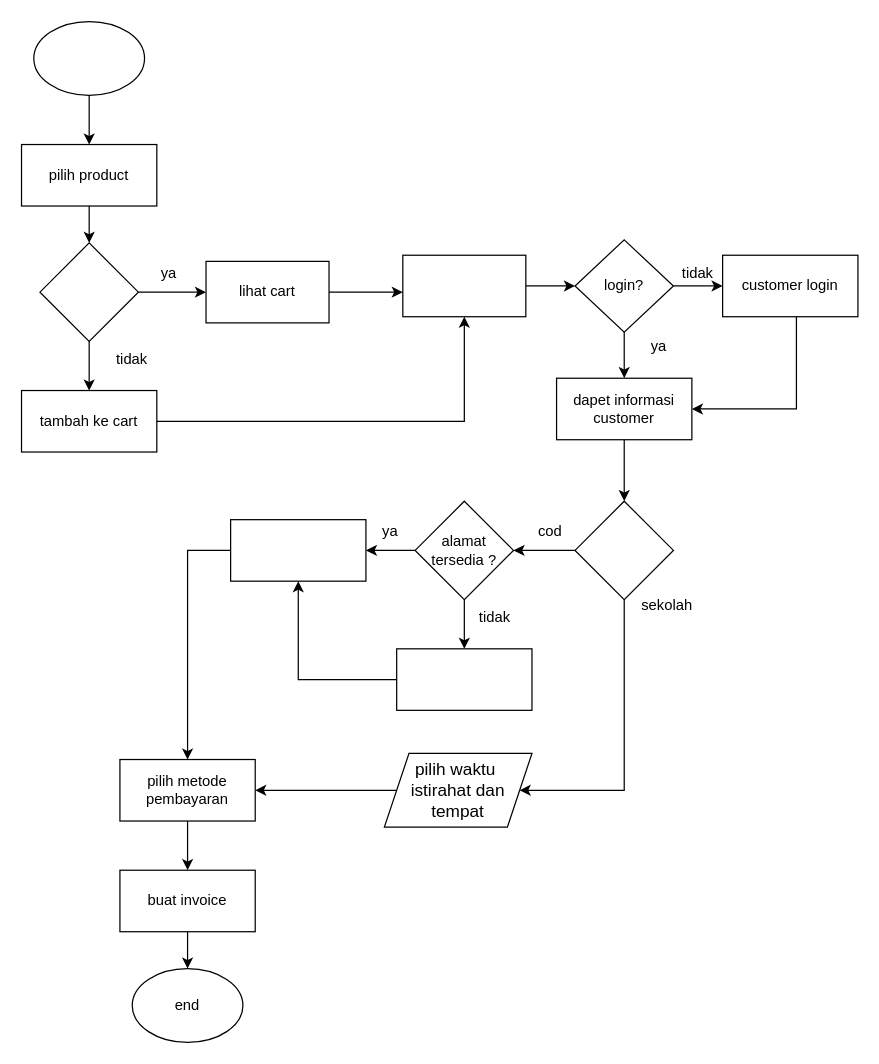
The diagram is 879 pixels wide and 1064 high, and some of its shapes have lost their labels. Here are the shapes that lost their labels. From the top down, the centre of each, then its label:
At (x=89, y=57): "start".
At (x=88, y=291): "di cart ?".
At (x=464, y=285): "checkout".
At (x=297, y=549): "pilih alamat".
At (x=623, y=550): "pilih lokasi pengiriman".
At (x=463, y=679): "tambah alamat".
